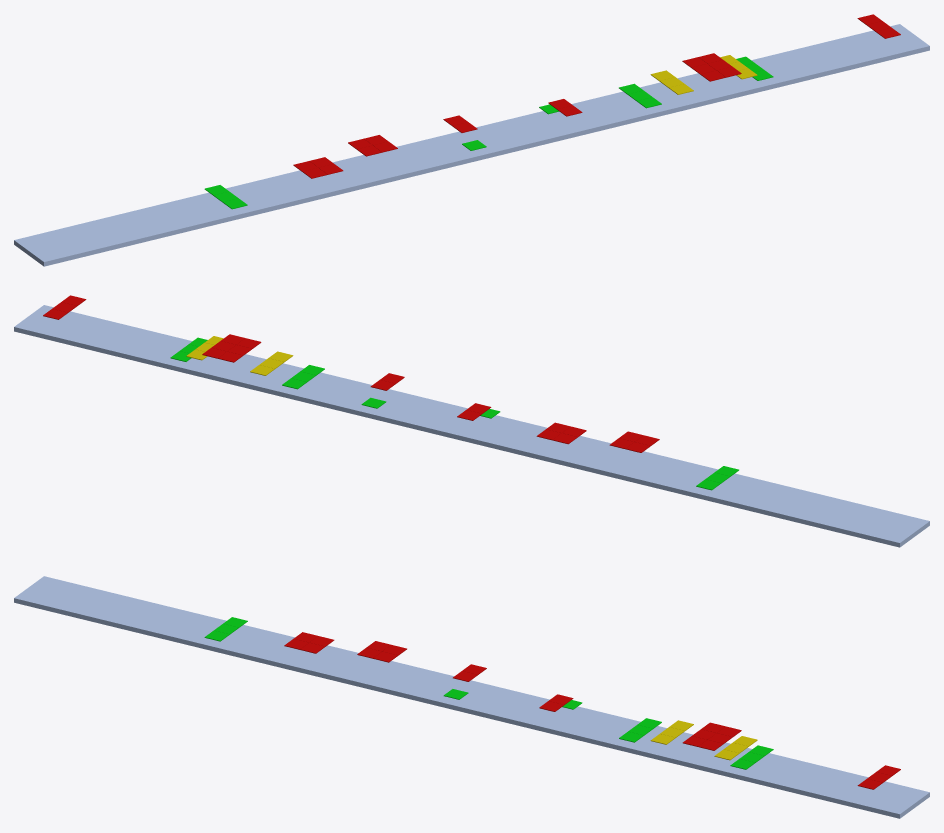
File: PlatformFix (2).fbx
The picture shows the model from 3 angles, top to bottom: view 1: azimuth 30°, elevation 25°; view 2: azimuth 150°, elevation 25°; view 3: azimuth 330°, elevation 25°; orthographic projection.
Parts seen in each view (by area): view 1: Platform; view 2: Platform; view 3: Platform.
Boxes of the visible parts, left/top/right/bottom form: Platform: left=14, top=14, right=929, bottom=266; Platform: left=14, top=295, right=929, bottom=547; Platform: left=14, top=576, right=929, bottom=818.
Bounding box in the file's own units: 16683 × 393 × 981.
